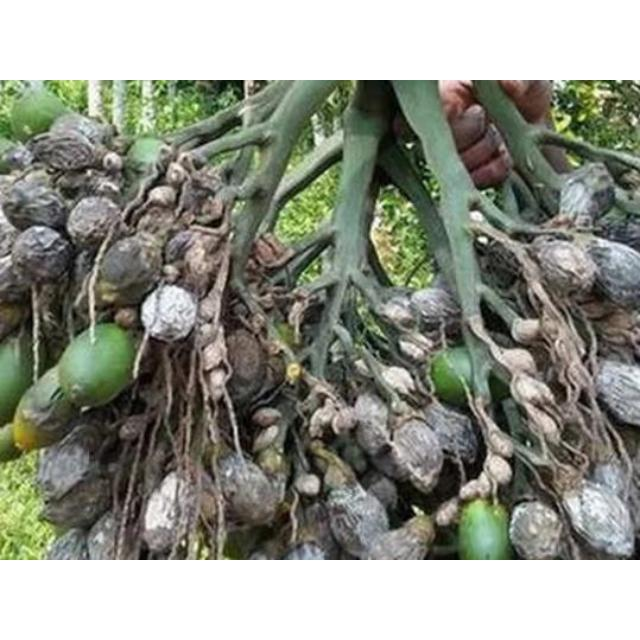damaged: (34, 426, 116, 526), (561, 469, 633, 557), (212, 452, 284, 530), (323, 482, 389, 558), (384, 416, 446, 489), (140, 471, 192, 554), (556, 163, 616, 227), (424, 406, 481, 472), (532, 238, 594, 296), (362, 512, 434, 560), (594, 359, 640, 428), (510, 501, 564, 559), (66, 195, 122, 249), (349, 392, 393, 456), (478, 236, 528, 292), (62, 413, 112, 462), (176, 170, 224, 220), (408, 287, 458, 333), (69, 170, 123, 208), (598, 218, 640, 260), (134, 198, 176, 240), (377, 294, 419, 334), (294, 290, 328, 336), (323, 352, 357, 396), (42, 320, 68, 368), (164, 230, 198, 266), (365, 474, 399, 510), (308, 404, 340, 442), (380, 366, 418, 398), (498, 347, 538, 377), (54, 168, 94, 196), (338, 439, 369, 475), (255, 446, 288, 478), (538, 316, 570, 348), (201, 339, 227, 376), (484, 453, 514, 485), (118, 414, 150, 444), (514, 378, 548, 406), (530, 410, 560, 440), (485, 427, 515, 457), (252, 426, 284, 454), (396, 338, 430, 364), (511, 318, 544, 344), (198, 436, 224, 468), (145, 184, 177, 210), (330, 408, 358, 437), (434, 498, 461, 528), (197, 291, 221, 323), (294, 472, 322, 498), (251, 408, 283, 428), (208, 364, 228, 396), (165, 162, 189, 186), (197, 322, 221, 346), (114, 307, 138, 329), (102, 151, 124, 173)
